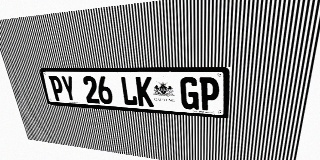2: (82, 76, 100, 104)
6: (96, 76, 113, 104)
G: (180, 77, 199, 110)
K: (135, 76, 154, 107)
L: (120, 76, 138, 106)
P: (199, 77, 219, 111), (48, 75, 66, 101)
Y: (60, 76, 77, 102)
